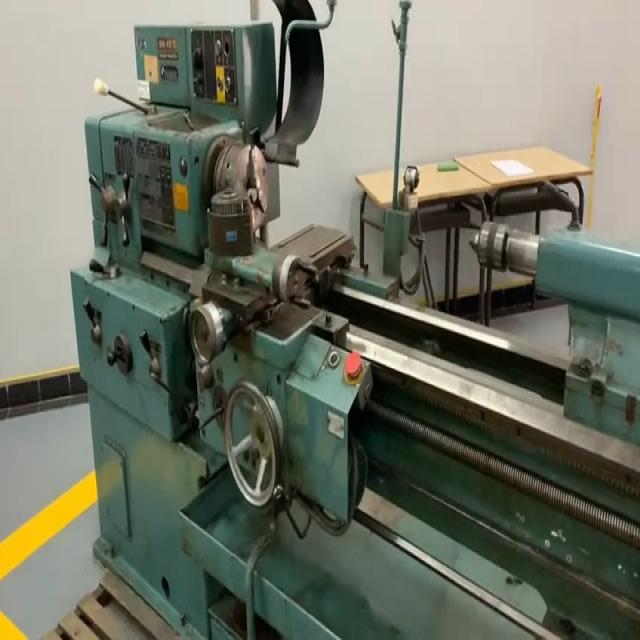tour parallele: (69, 0, 640, 640)
